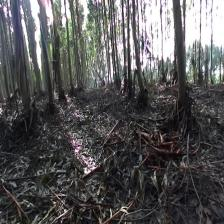trunk: (10, 6, 33, 108), (172, 4, 187, 104), (39, 10, 54, 104), (132, 5, 144, 85), (66, 19, 75, 92), (127, 7, 131, 78)
